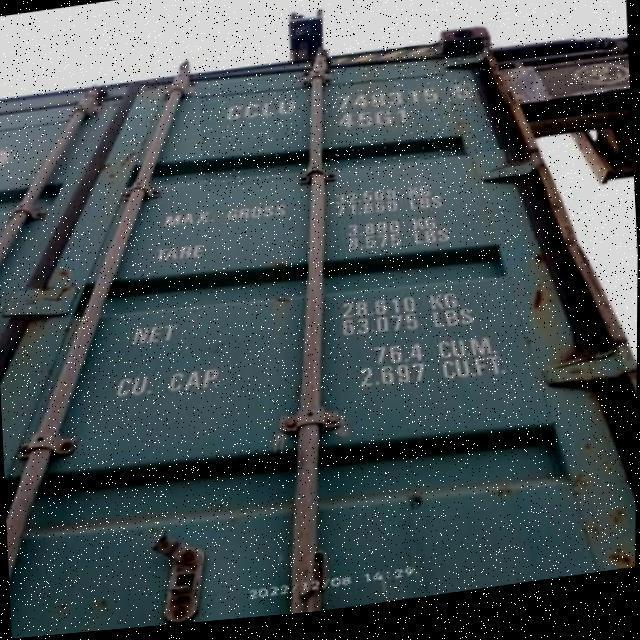container_number_h: (199, 53, 510, 196)
